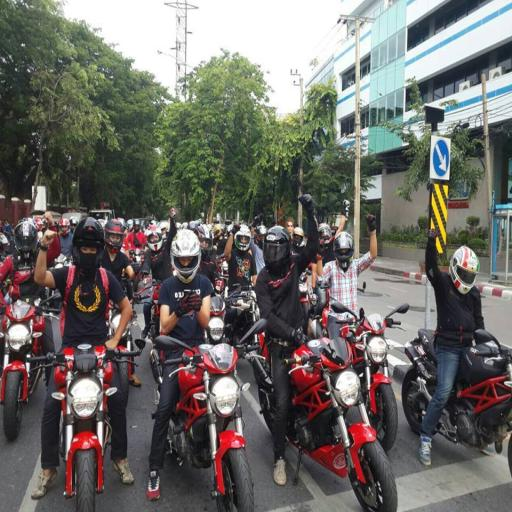overloading: (3, 192, 504, 507)
